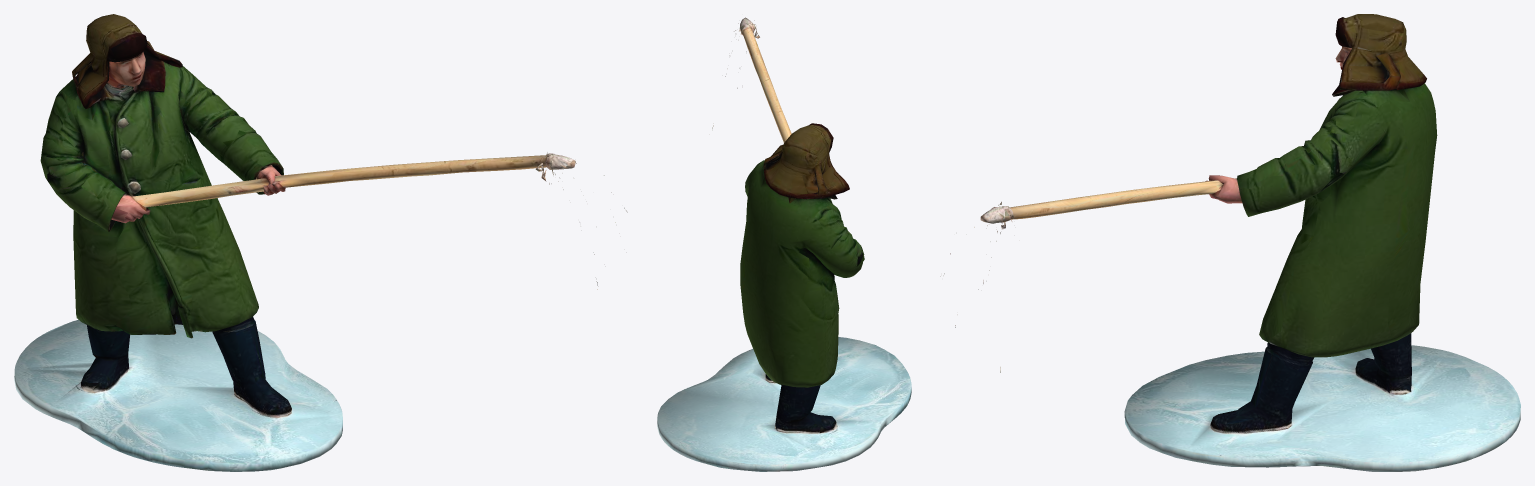
Rendered from winterfisher.glb.
3 views of the same model, side by side, from view 1: azimuth 30°, elevation 25°; view 2: azimuth 150°, elevation 25°; view 3: azimuth 270°, elevation 25° (orthographic). The views are drawn at different scales.
Parts seen in each view (by area): view 1: winterfisher; view 2: winterfisher; view 3: winterfisher.
Boxes of the visible parts, bbox=[...] form: winterfisher: bbox=[14, 14, 627, 471]; winterfisher: bbox=[657, 17, 911, 471]; winterfisher: bbox=[940, 14, 1520, 471].
Bounding box in the file's own units: 0.779 × 0.7169 × 1.
1 material, 1 textured.
